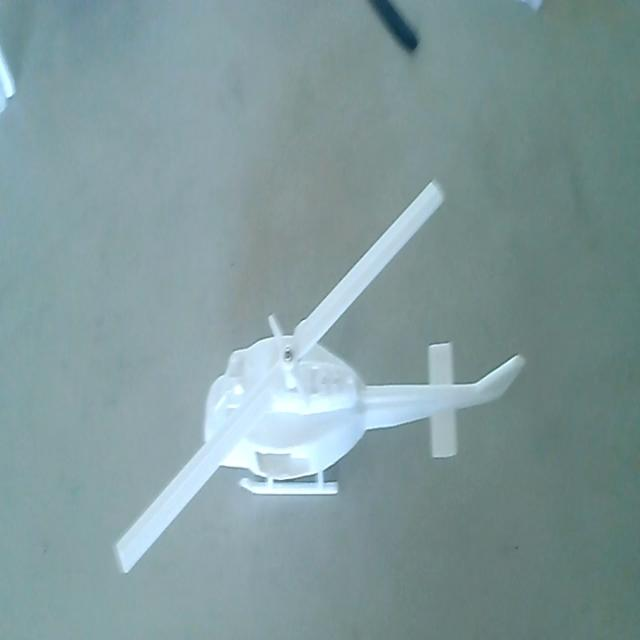Helicopter: (113, 180, 528, 592)
